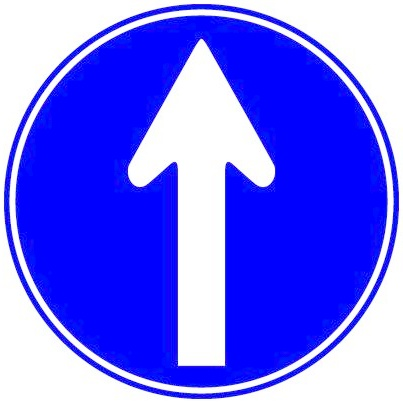Direction_sign: (3, 4, 397, 400)
